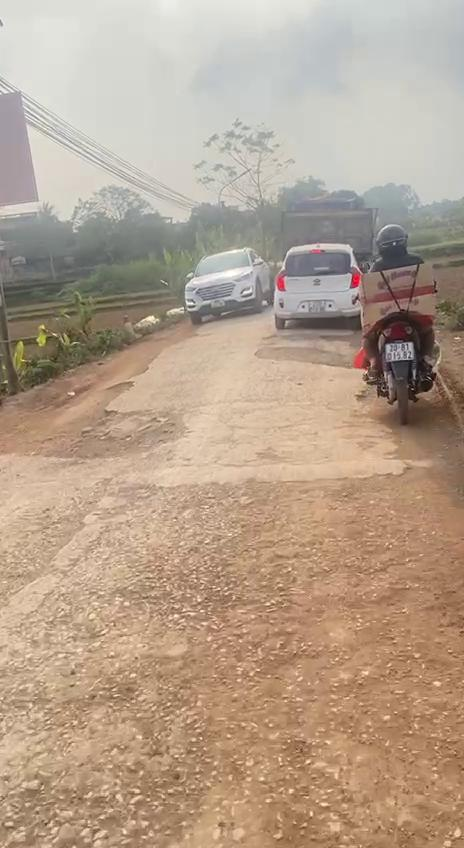pothole: (0, 376, 194, 462), (0, 775, 219, 848), (253, 342, 362, 370)
